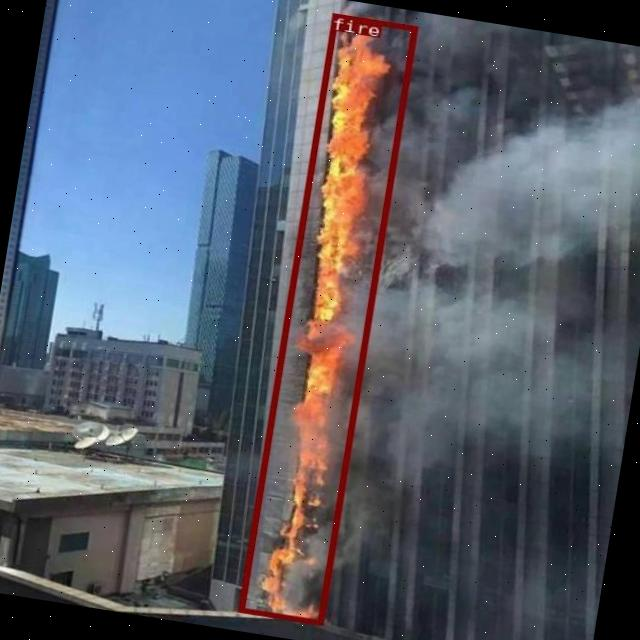fire: (238, 12, 418, 624)
